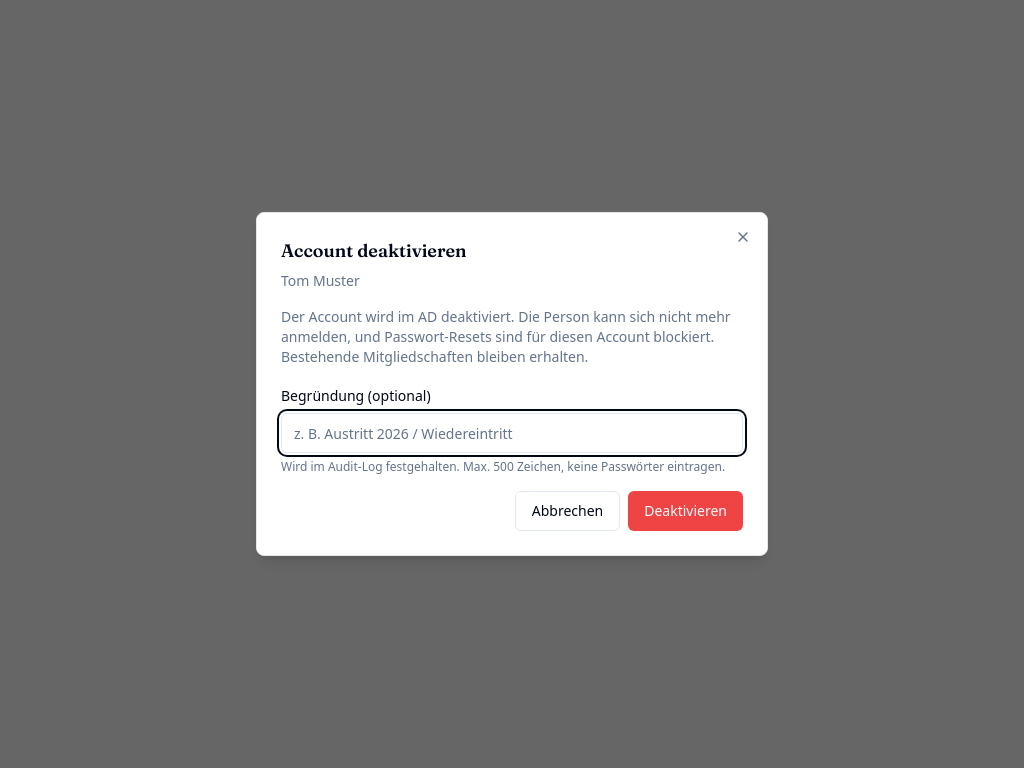
Scenario: UserStatusModal › shows the cannot-disable-self message when the backend returns 400
Click the button "Deaktivieren". click: [686, 511]
box: 628,491 -> 743,531
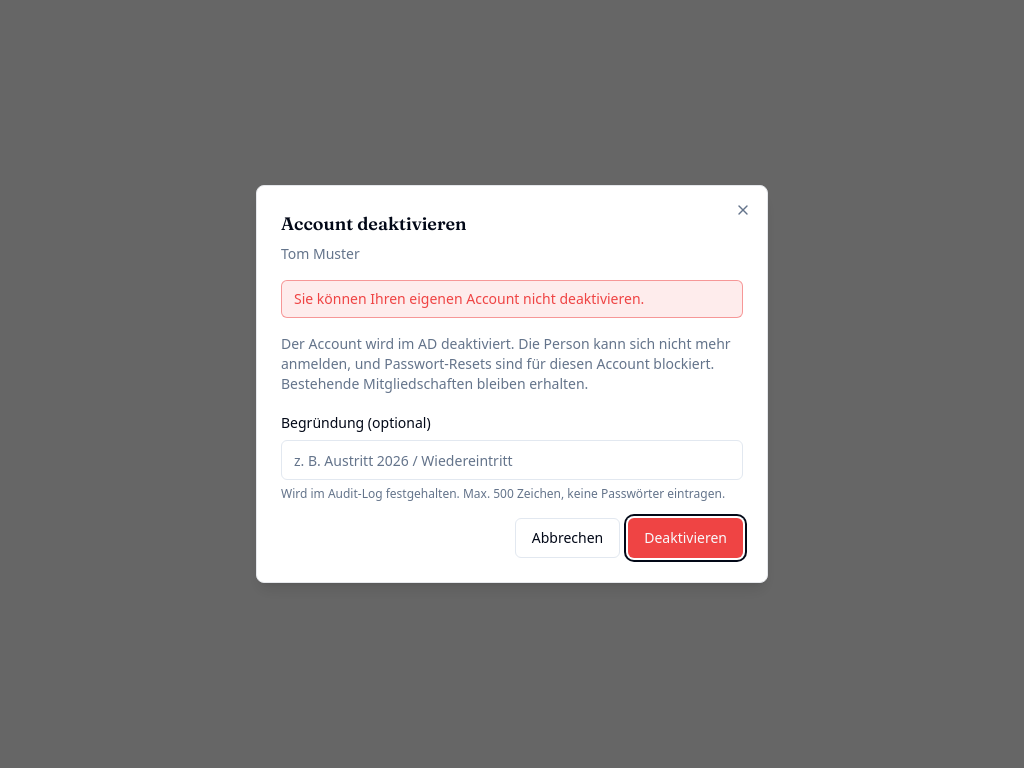
Expected: the text "Sie können Ihren eigenen Account nicht deaktivieren." is shown, 281,280 -> 743,318
